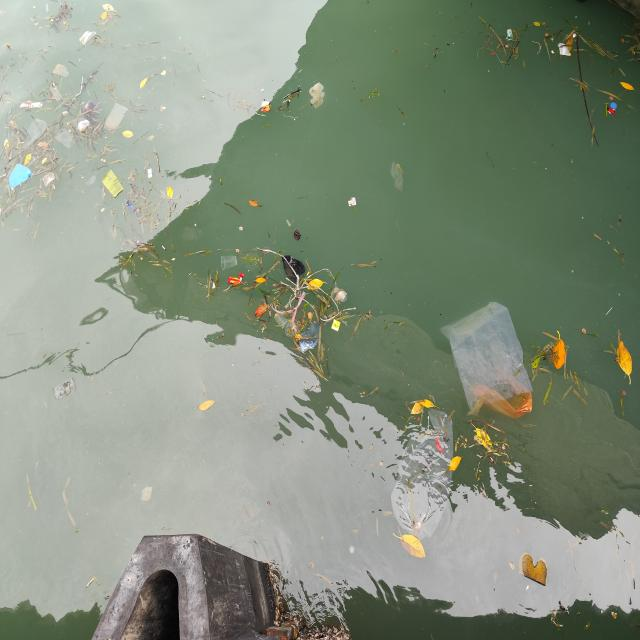Bungkus Minuman: (221, 256, 239, 272), (275, 313, 289, 330)
Kantong Plastik: (441, 302, 537, 418), (391, 407, 455, 545), (23, 120, 48, 154), (299, 322, 322, 353), (106, 104, 129, 134), (282, 255, 306, 283), (8, 164, 33, 189)
